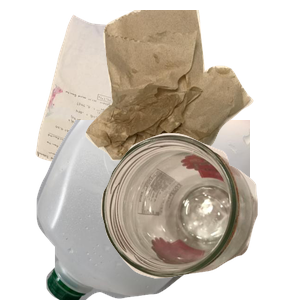glass: (98, 131, 300, 300)
paper: (33, 12, 214, 192)
plastic: (34, 120, 274, 300)
trash: (83, 10, 300, 163)
